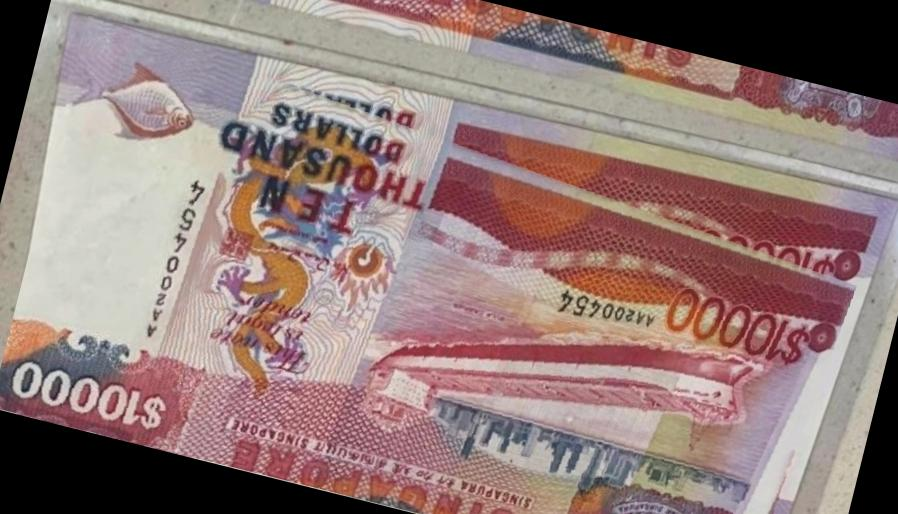10000SingaporeDollar: (0, 14, 875, 514)
